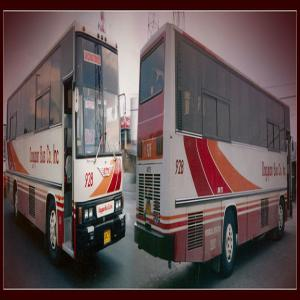Vehicle-registration-plate: (105, 231, 111, 245)
